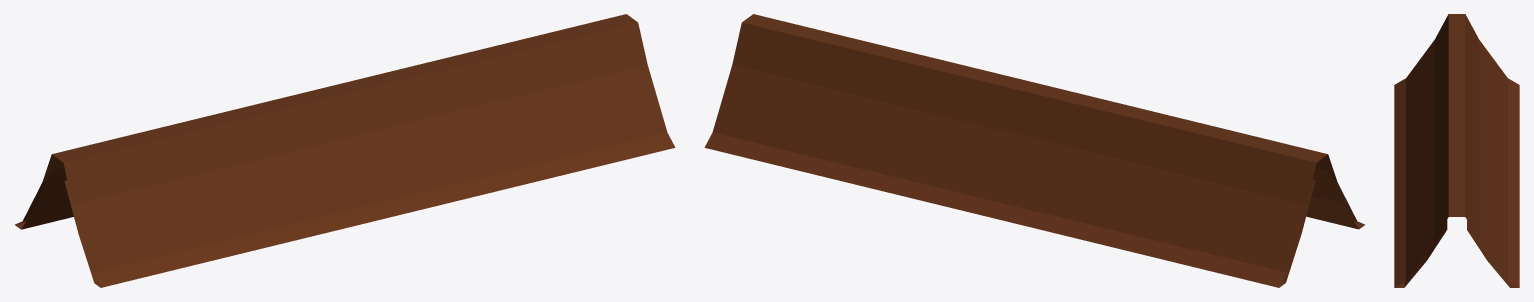
The model's file is Techo pared.fbx.
3 views of the same model, side by side, from view 1: azimuth 30°, elevation 25°; view 2: azimuth 150°, elevation 25°; view 3: azimuth 270°, elevation 25° (orthographic). The views are drawn at different scales.
Parts seen in each view (by area): view 1: polySurface1046; view 2: polySurface1046; view 3: polySurface1046.
Boxes of the visible parts, left/top/right/bottom form: polySurface1046: left=15, top=14, right=675, bottom=287; polySurface1046: left=704, top=14, right=1364, bottom=287; polySurface1046: left=1394, top=14, right=1519, bottom=287.
Size of the model in its own units: 76.64 by 12.47 by 19.95.
